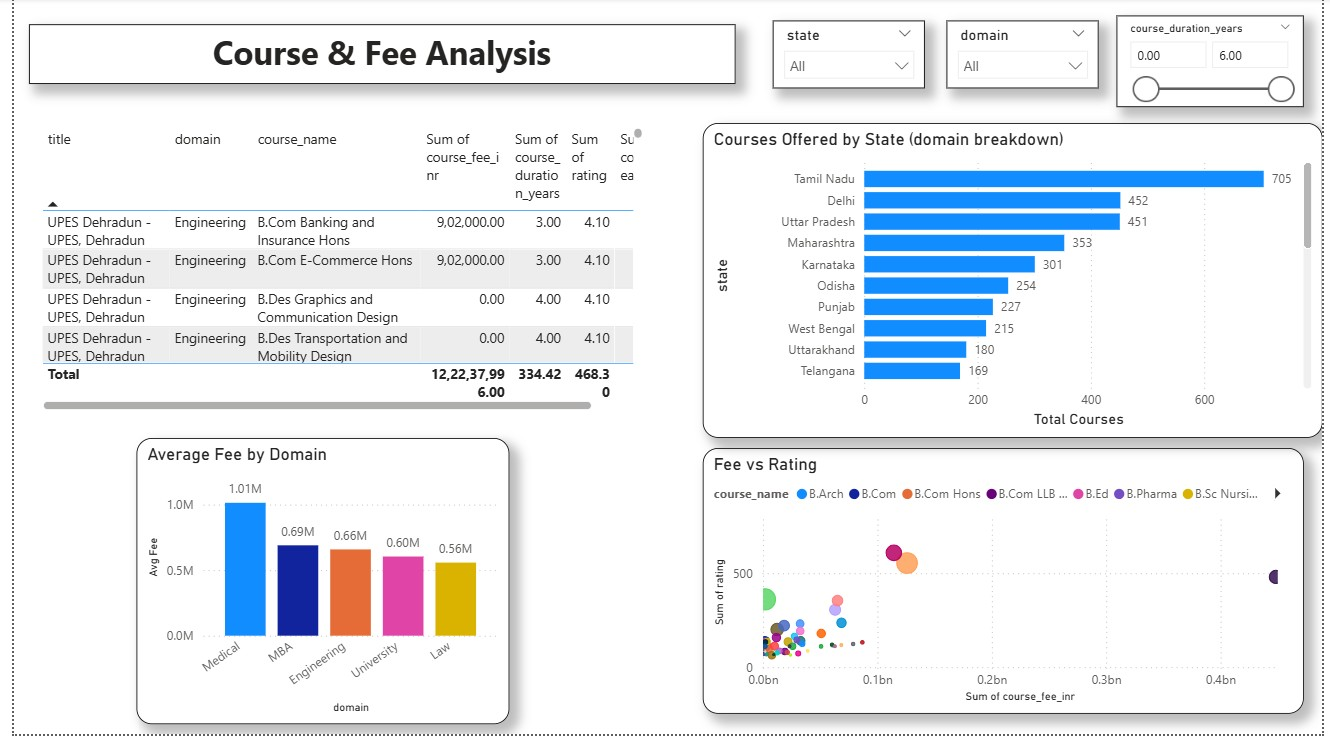

What the dashboard file says about the page in this screenshot:
{"tool":"powerbi","page":{"name":"Dashboard 2","canvas":[1280,720],"ordinal":14},"visuals":[{"type":"scatterChart","title":"Fee vs Rating","fields":{"X":["Sum(careers360_colleges.course_fee_inr)"],"Y":["Sum(careers360_colleges.rating)"],"Series":["careers360_colleges.course_name"],"Size":["Sum(careers360_colleges.course_seats)"]},"box":[673.3,440,588.3,260],"z":0},{"type":"clusteredColumnChart","title":"Average Fee by Domain","fields":{"Category":["careers360_colleges.domain"],"Y":["careers360_colleges.Avg Fee"]},"box":[120,430,365,280],"z":1000},{"type":"barChart","title":"Courses Offered by State (domain breakdown)","fields":{"Category":["careers360_colleges.state"],"Y":["careers360_colleges.Total Courses"]},"box":[673.8,122.3,606.5,308.2],"z":2000},{"type":"tableEx","fields":{"Values":["careers360_colleges.title","careers360_colleges.domain","careers360_colleges.course_name","Sum(careers360_colleges.course_fee_inr)","Sum(careers360_colleges.course_duration_years)","Sum(careers360_colleges.rating)","Sum(careers360_colleges.course_seats)"]},"box":[22,122.3,598,286.1],"z":3000},{"type":"slicer","fields":{"Values":["careers360_colleges.state"]},"box":[742.3,22,149.2,66],"z":4000},{"type":"slicer","fields":{"Values":["careers360_colleges.domain"]},"box":[912.2,22,149.2,66],"z":5000},{"type":"slicer","fields":{"Values":["careers360_colleges.course_duration_years"]},"box":[1078.5,17.1,183.4,89.3],"z":6000},{"type":"textbox","box":[14.7,25.7,690.9,58.7],"z":7000}]}

Visuals, with their boxes in screenshot pixels (x1, y1, x2, y2), scaled from the page's 1280x720 canvas onto the 1330x740 screenshot:
"Fee vs Rating" scatterChart: <region>700, 452, 1311, 719</region>
"Average Fee by Domain" clusteredColumnChart: <region>125, 442, 504, 730</region>
"Courses Offered by State (domain breakdown)" barChart: <region>700, 126, 1329, 442</region>
tableEx - careers360_colleges.title x careers360_colleges.domain: <region>23, 126, 644, 420</region>
slicer - careers360_colleges.state: <region>771, 23, 926, 90</region>
slicer - careers360_colleges.domain: <region>948, 23, 1103, 90</region>
slicer - careers360_colleges.course_duration_years: <region>1121, 18, 1311, 109</region>
textbox: <region>15, 26, 733, 87</region>
